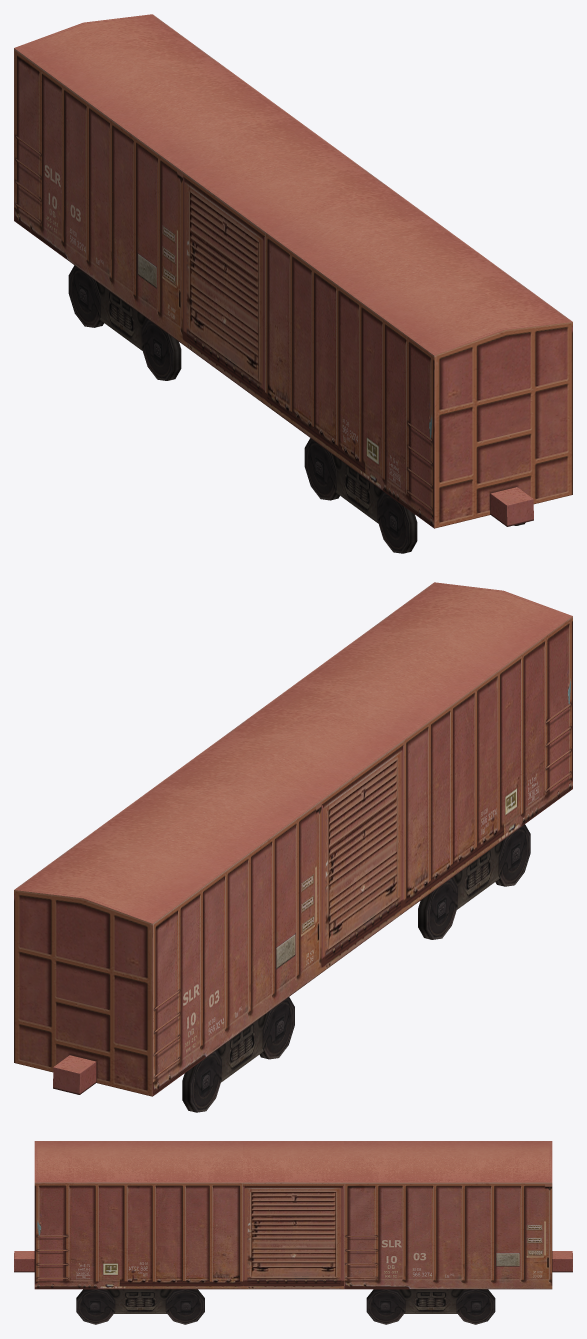
File: Box_Car_LOD_02.fbx
3 views of the same model, one above another, from view 1: azimuth 30°, elevation 25°; view 2: azimuth 150°, elevation 25°; view 3: azimuth 270°, elevation 25° (orthographic). The views are drawn at different scales.
Parts seen in each view (by area): view 1: Box_Car_LOD_02; view 2: Box_Car_LOD_02; view 3: Box_Car_LOD_02.
Part boxes in pixels (x1,y1,x2,y2): Box_Car_LOD_02: (14, 14, 572, 553); Box_Car_LOD_02: (14, 582, 572, 1112); Box_Car_LOD_02: (14, 1141, 572, 1324).
Size of the model in its own units: 2.02 by 3.4 by 11.48.
